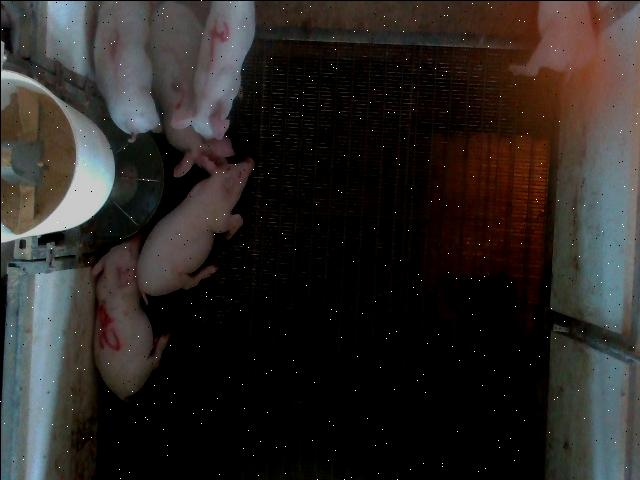pig-1: (92, 1, 159, 141)
pig-3: (148, 1, 234, 176)
pig-4: (171, 1, 254, 139)
pig-5: (91, 234, 169, 401)
